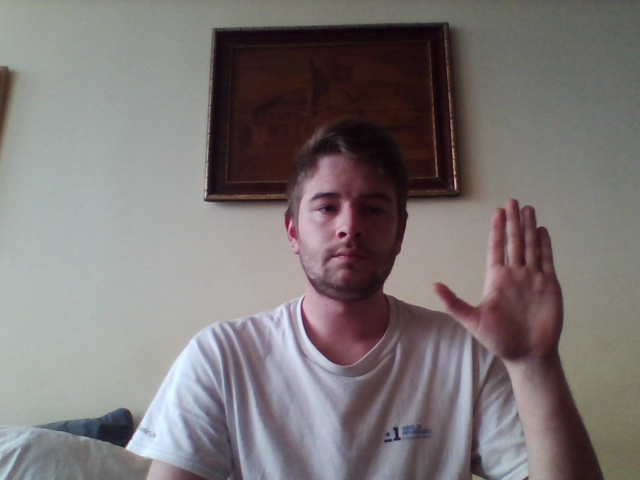pozdrav: (435, 194, 565, 361)
